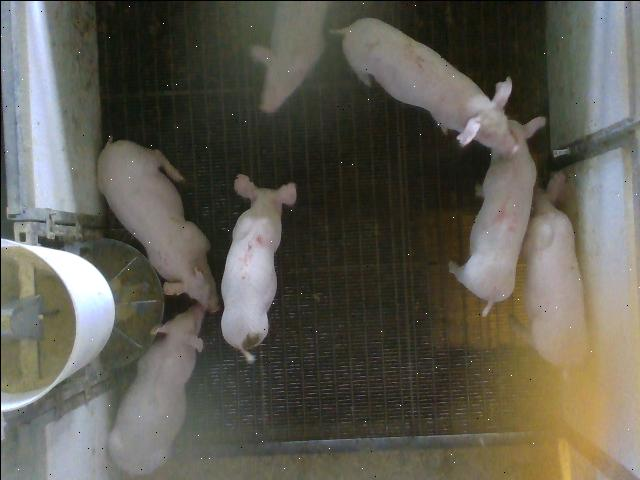pig-4: (449, 116, 544, 314)
pig-5: (220, 174, 295, 361)
